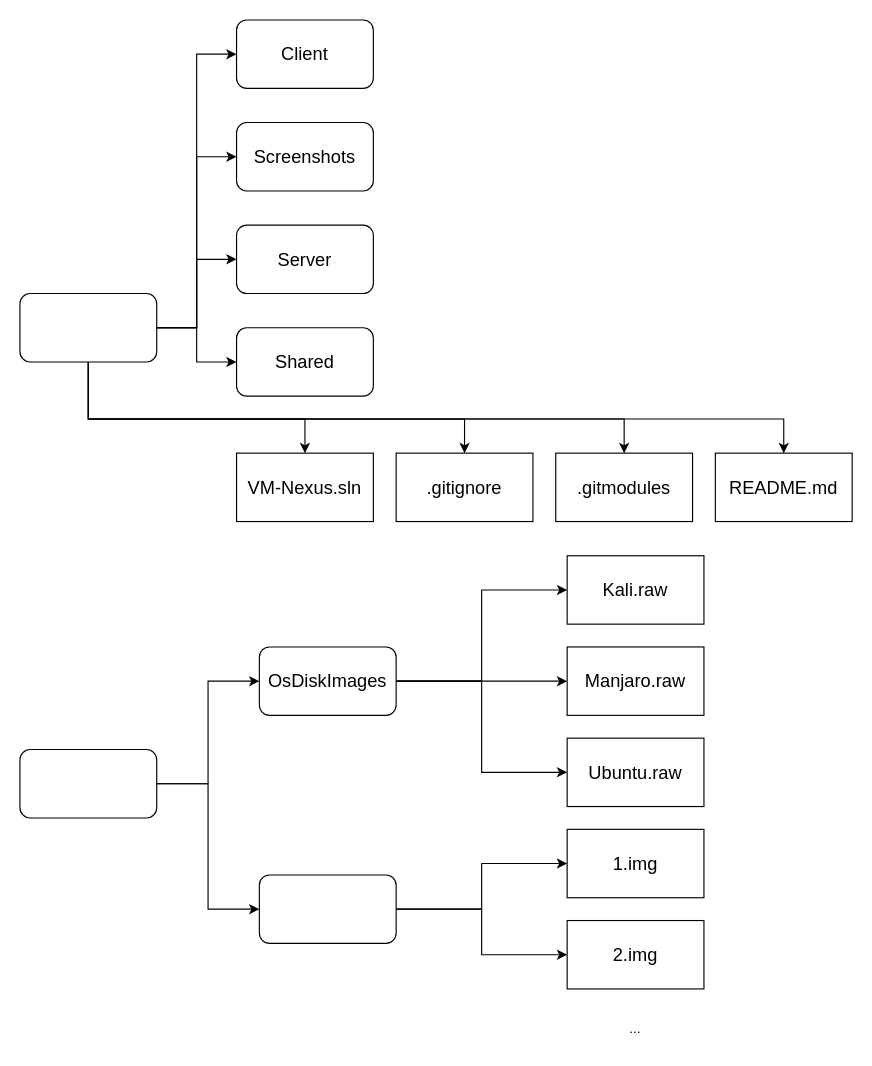
This 872x1066 diagram has some shape labels left out. Here are the shapes that lost their labels. From the top down, the centre of each, then its label:
point 88,327: תיקיית המערכת
point 88,783: ~/.VM-Nexus
point 327,908: DiskImages
